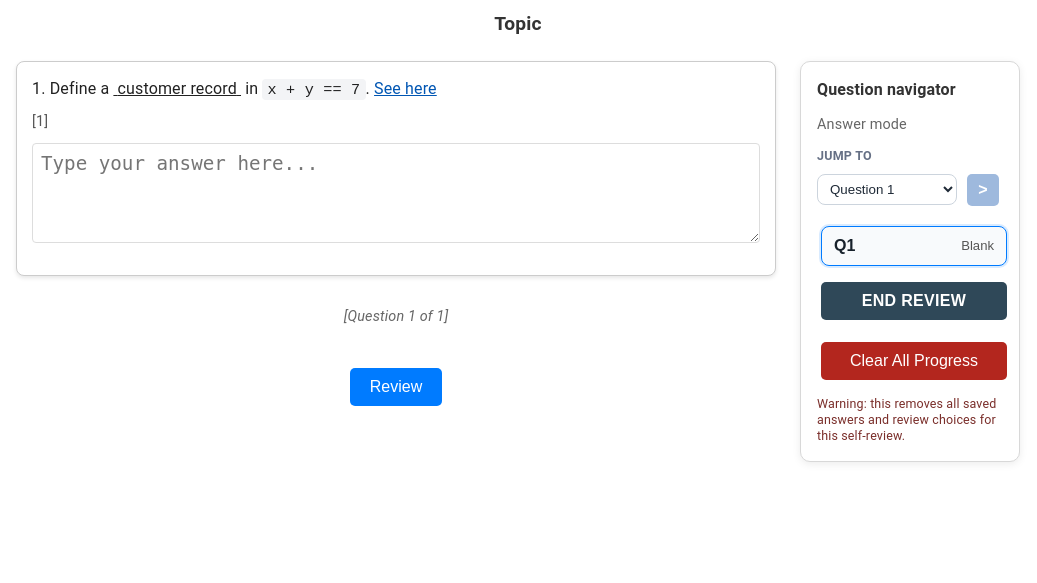
Test: formatted self-review rendering › renders highlighted text, markdown links, and inline code in question and markscheme text
Expected: the text "customer record" is shown, top-left (113, 79), bottom-right (241, 98)
Expected: the text "x + y == 7" is shown, top-left (262, 79), bottom-right (366, 100)
Click the button "Review" at (396, 387), box top-left (350, 368), bottom-right (442, 406)
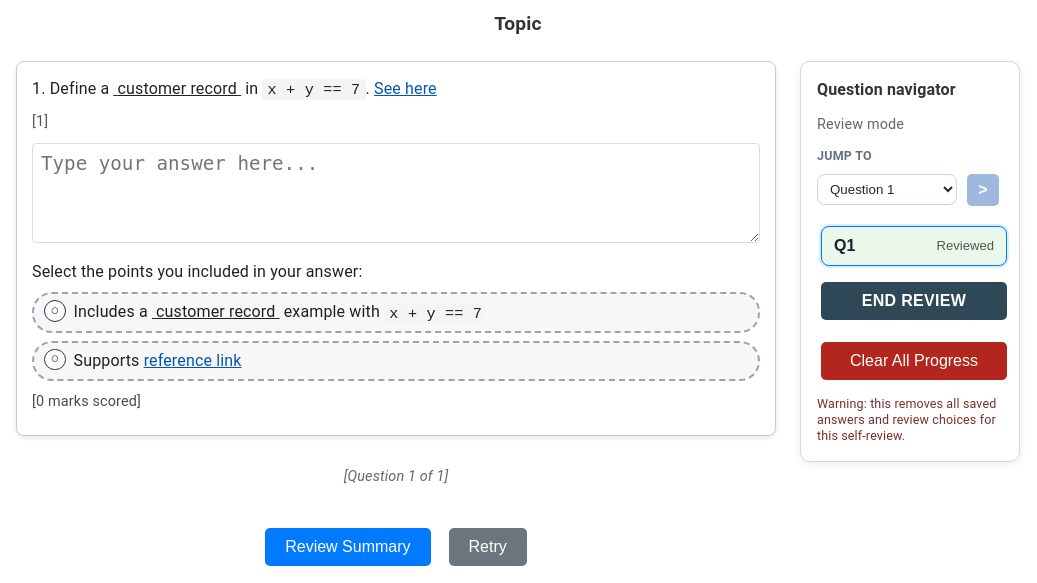
Result: the text "customer record" next to "Includes a" is shown at top-left (152, 302), bottom-right (280, 321)
Result: the text "x + y == 7" next to "example with" is shown at top-left (384, 302), bottom-right (482, 324)
Result: the link "reference link" is shown at top-left (144, 351), bottom-right (242, 370)
